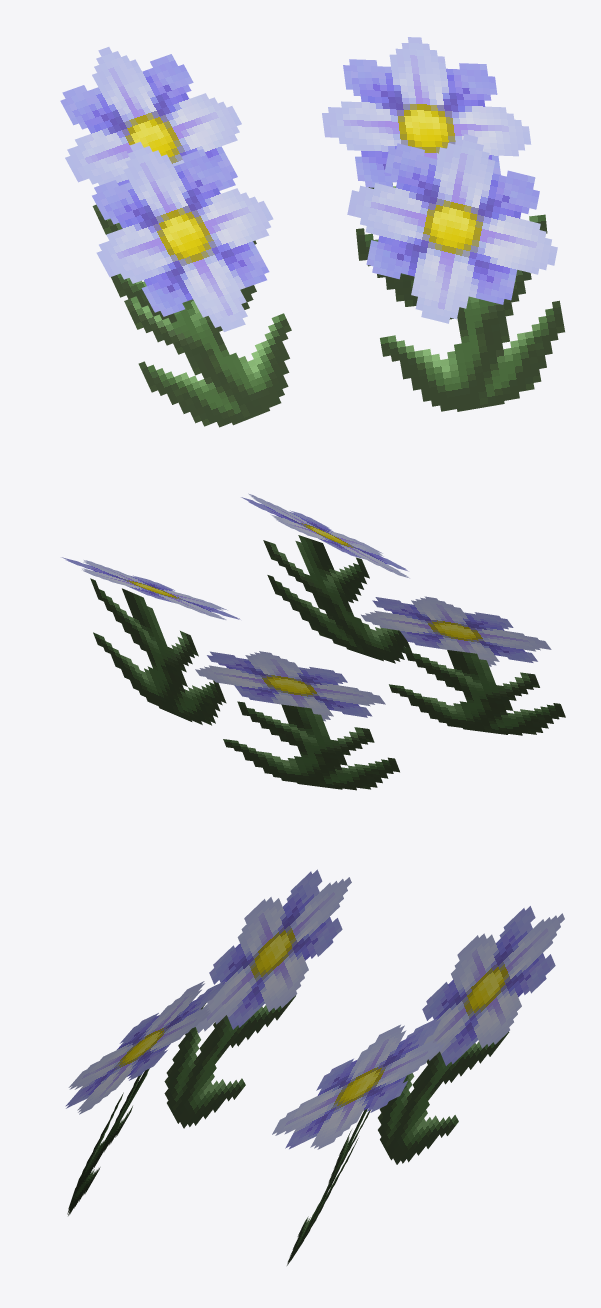
The model's file is Flower_002.fbx.
3 views of the same model, one above another, from view 1: azimuth 30°, elevation 25°; view 2: azimuth 150°, elevation 25°; view 3: azimuth 270°, elevation 25° (orthographic). The views are drawn at different scales.
Visible parts, largest first — view 1: It_019_Flower_002; view 2: It_019_Flower_002; view 3: It_019_Flower_002.
Part boxes in pixels (bbox=[...]): It_019_Flower_002: bbox=[60, 37, 564, 427]; It_019_Flower_002: bbox=[61, 493, 565, 790]; It_019_Flower_002: bbox=[65, 869, 564, 1265].
Bounding box in the file's own units: 0.9733 × 0.4398 × 0.9232.
